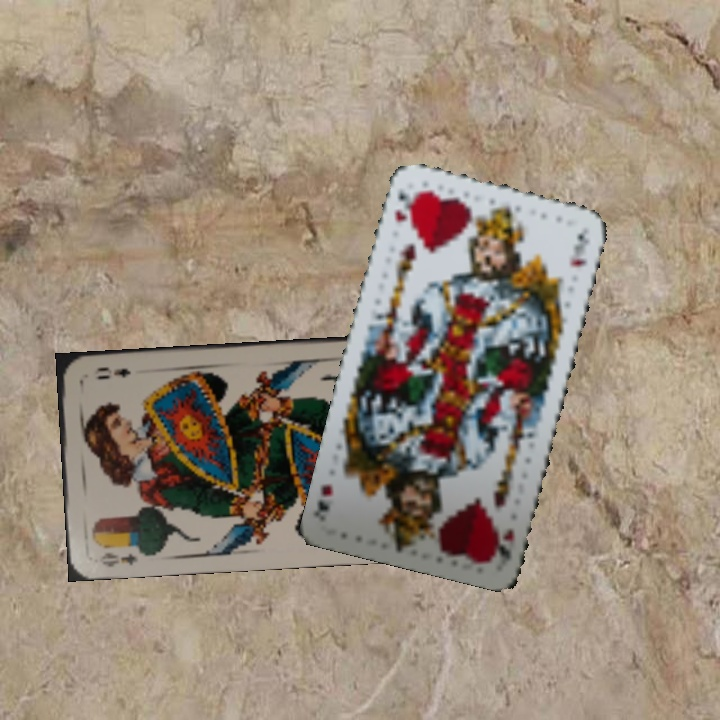EO: (95, 548, 140, 570)
HK: (490, 524, 518, 566), (390, 187, 418, 225)
